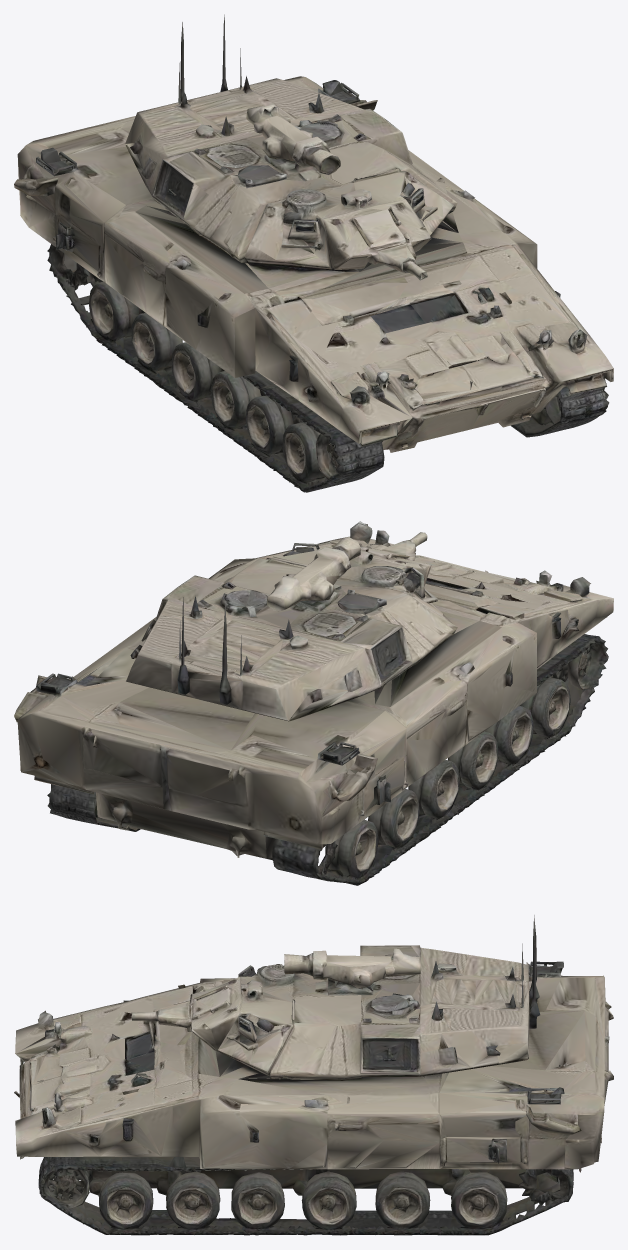
File: t243_apc_lod0.glb
The picture shows the model from 3 angles, top to bottom: view 1: azimuth 30°, elevation 25°; view 2: azimuth 150°, elevation 25°; view 3: azimuth 270°, elevation 25°; orthographic projection. The views are drawn at different scales.
Size of the model in its own units: 3.13 by 2.42 by 5.2.
Materials: 1 (1 with a texture image).
